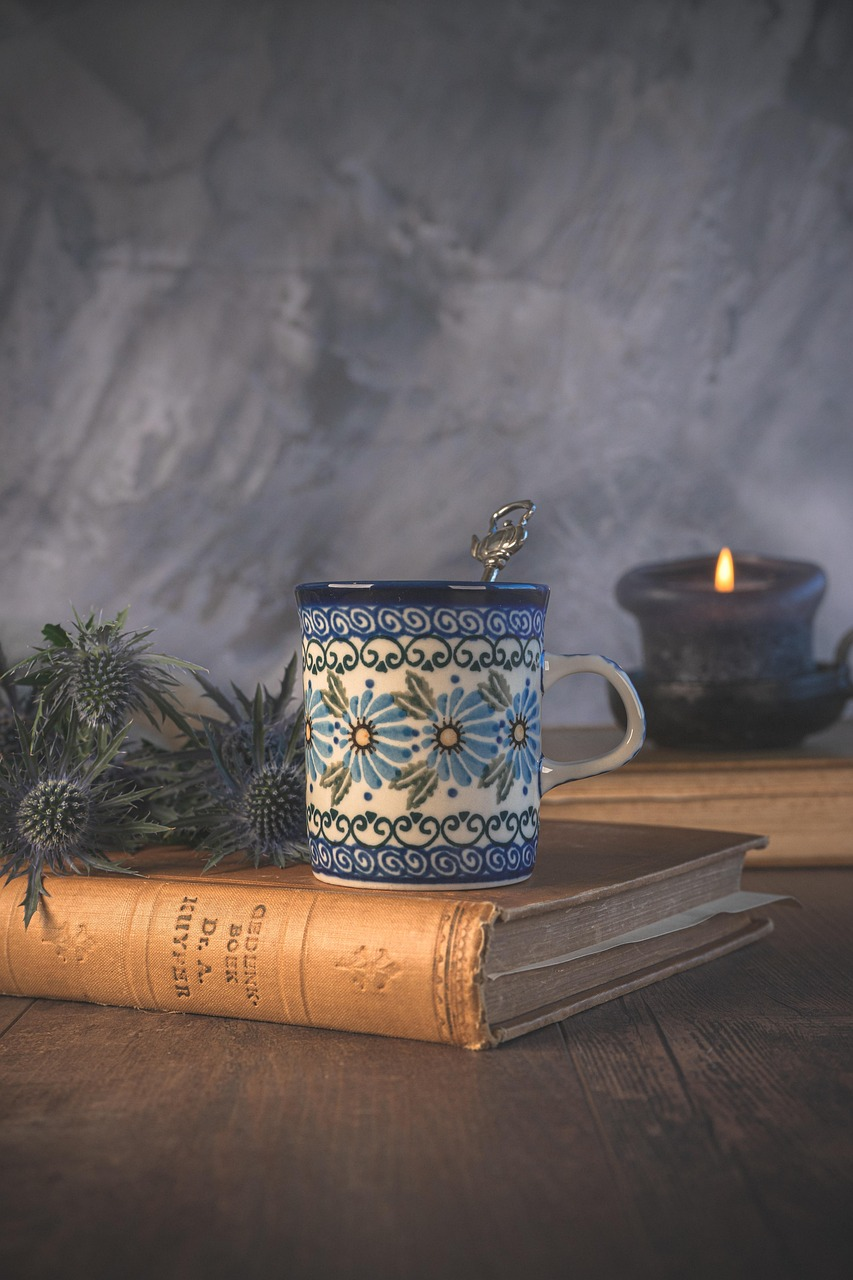mug: (242, 551, 645, 923)
